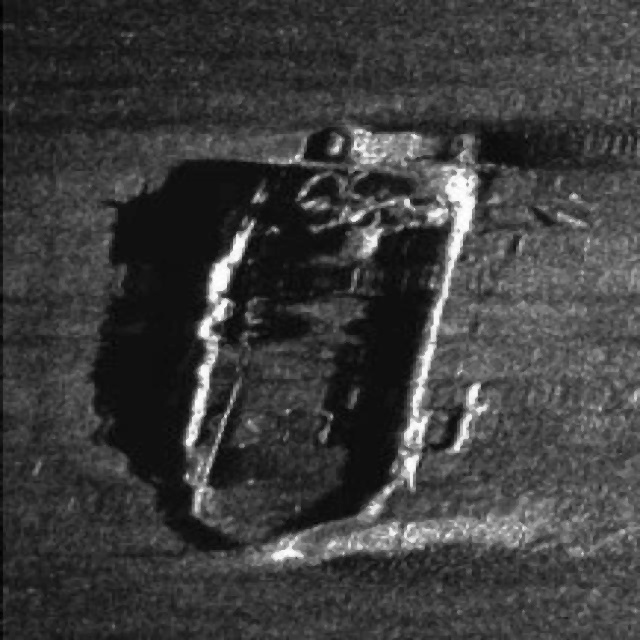Ship: (138, 113, 502, 571)
